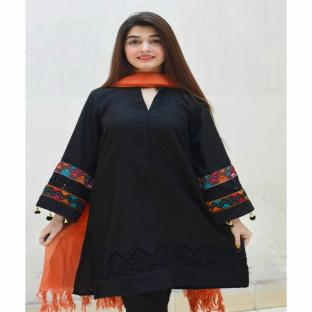Human: (35, 12, 255, 312)
